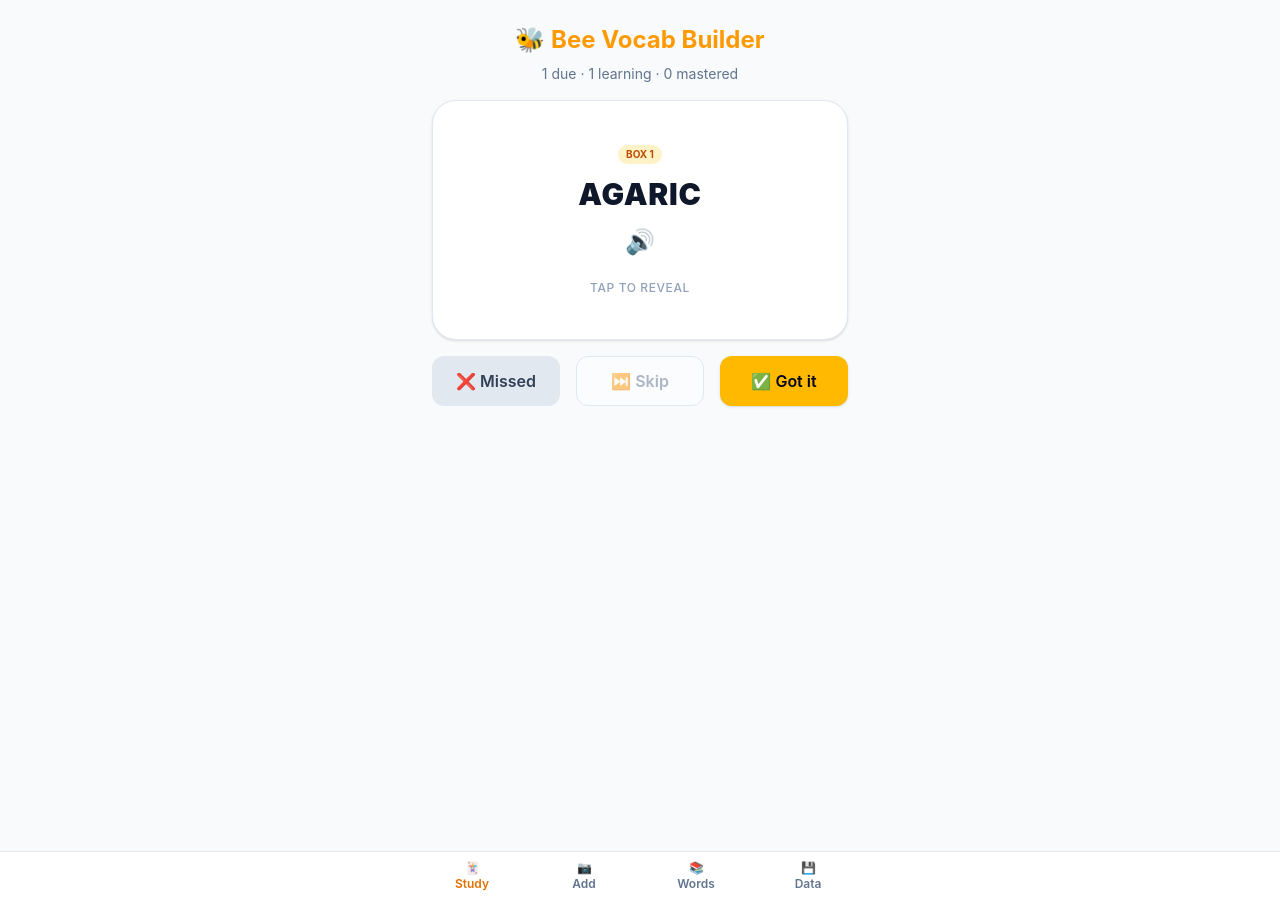
Scenario: flips the card and "Got it" advances the session
This screenshot has width=1280, height=900.
Check: the text "gilled mushroom" is not shown
Click the heading "AGARIC": point(640, 194) [578,176,702,212]
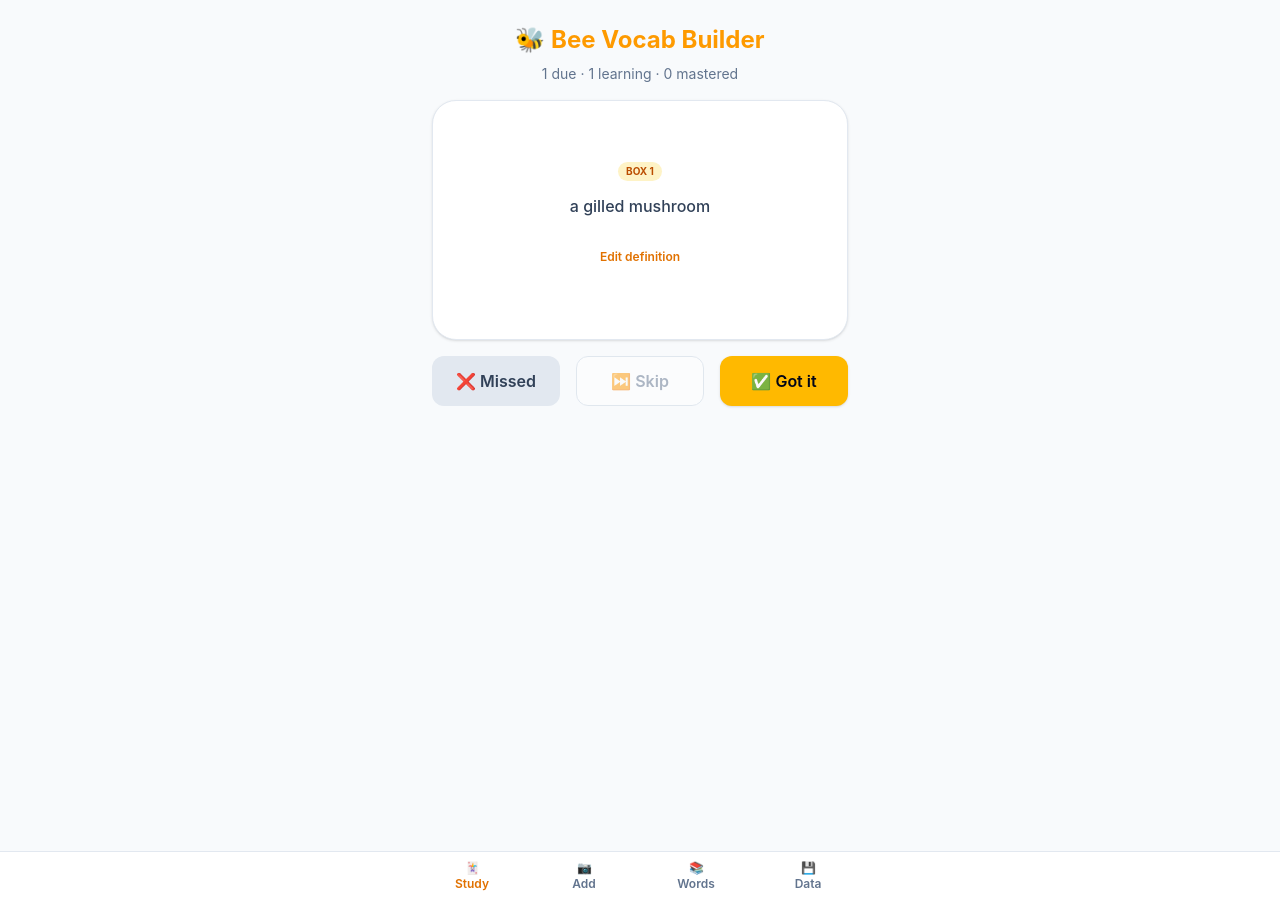
Check: the text "a gilled mushroom" is shown, box [570,192,710,218]
Click the button "✅ Got it": point(784, 381) [720,356,848,406]
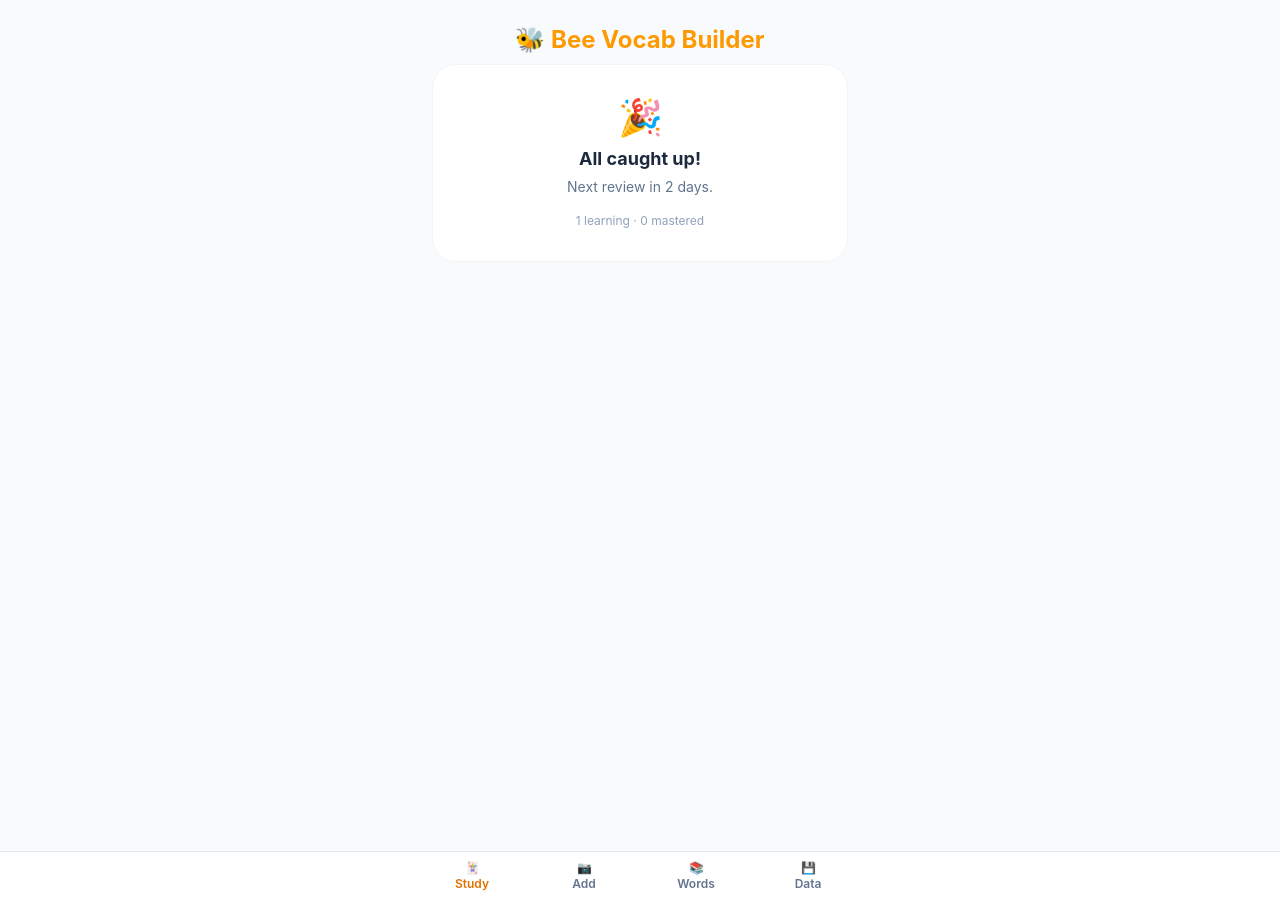
Check: the heading "All caught up!" is shown, box [579,148,701,169]
